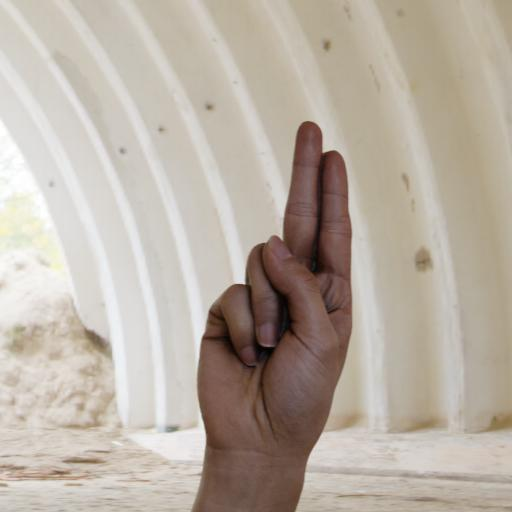U: (166, 114, 376, 474)
